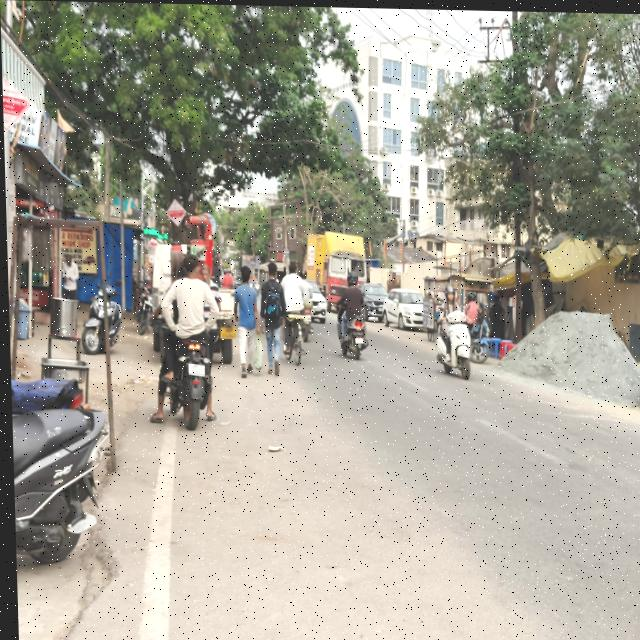bike: (9, 355, 114, 564), (157, 337, 226, 425), (81, 269, 126, 368), (431, 307, 480, 377), (344, 308, 368, 369), (133, 277, 155, 338)
car: (380, 281, 425, 334), (359, 279, 386, 320), (306, 277, 325, 324)
